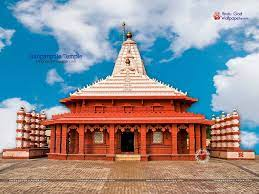Temple: (34, 26, 218, 169)
